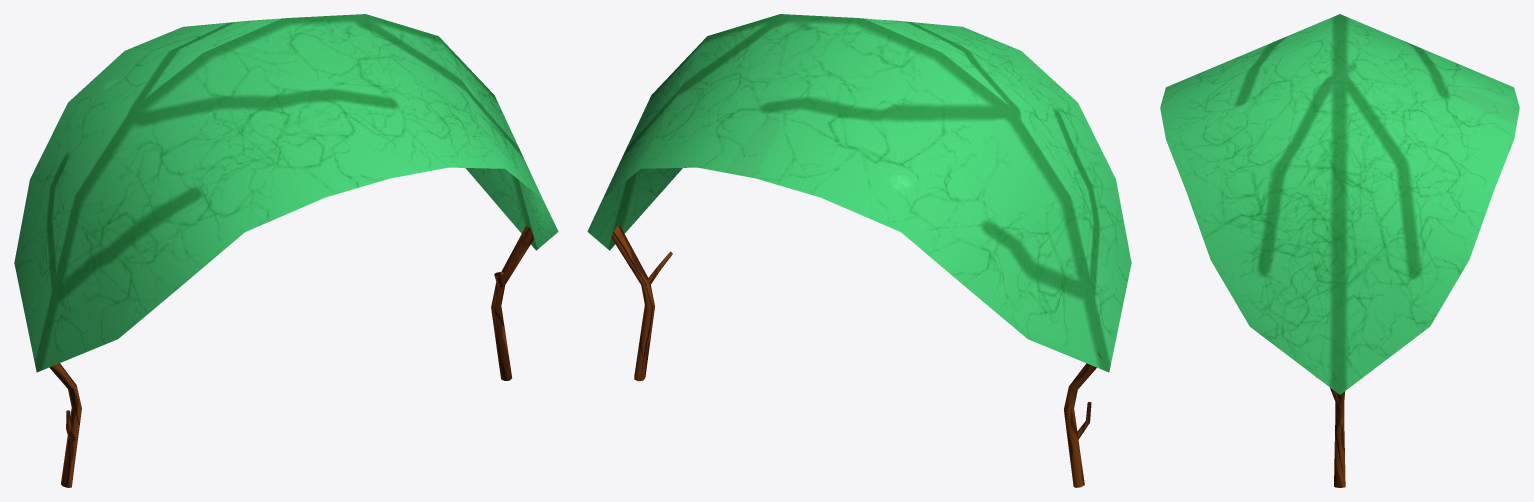
The model's file is Leaf_Hover2_Animation.fbx.
The picture shows the model from 3 angles, left to right: view 1: azimuth 30°, elevation 25°; view 2: azimuth 150°, elevation 25°; view 3: azimuth 270°, elevation 25°; orthographic projection. The views are drawn at different scales.
Visible parts, largest first — view 1: Leaf; view 2: Leaf; view 3: Leaf.
Part boxes in pixels (x1,y1,x2,y2): Leaf: (14, 14, 558, 487); Leaf: (587, 14, 1131, 487); Leaf: (1160, 14, 1519, 487).
Bounding box in the file's own units: 163 × 129 × 117.
